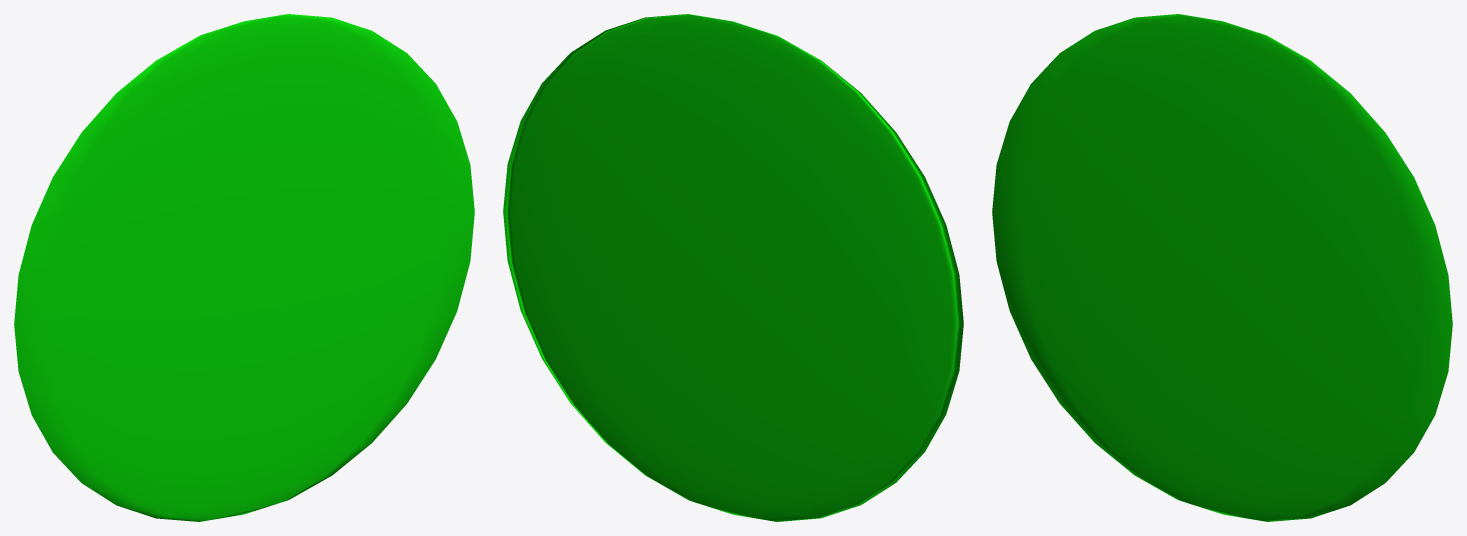
Rendered from S_GoalMesh.fbx.
The picture shows the model from 3 angles, left to right: view 1: azimuth 30°, elevation 25°; view 2: azimuth 150°, elevation 25°; view 3: azimuth 330°, elevation 25°; orthographic projection.
Visible parts, largest first — view 1: 球; view 2: 球; view 3: 球.
Part boxes in pixels (bbox=[...]): 球: bbox=[14, 14, 474, 521]; 球: bbox=[503, 14, 963, 521]; 球: bbox=[992, 14, 1452, 521].
Bounding box in the file's own units: 206 × 6.8 × 211.
